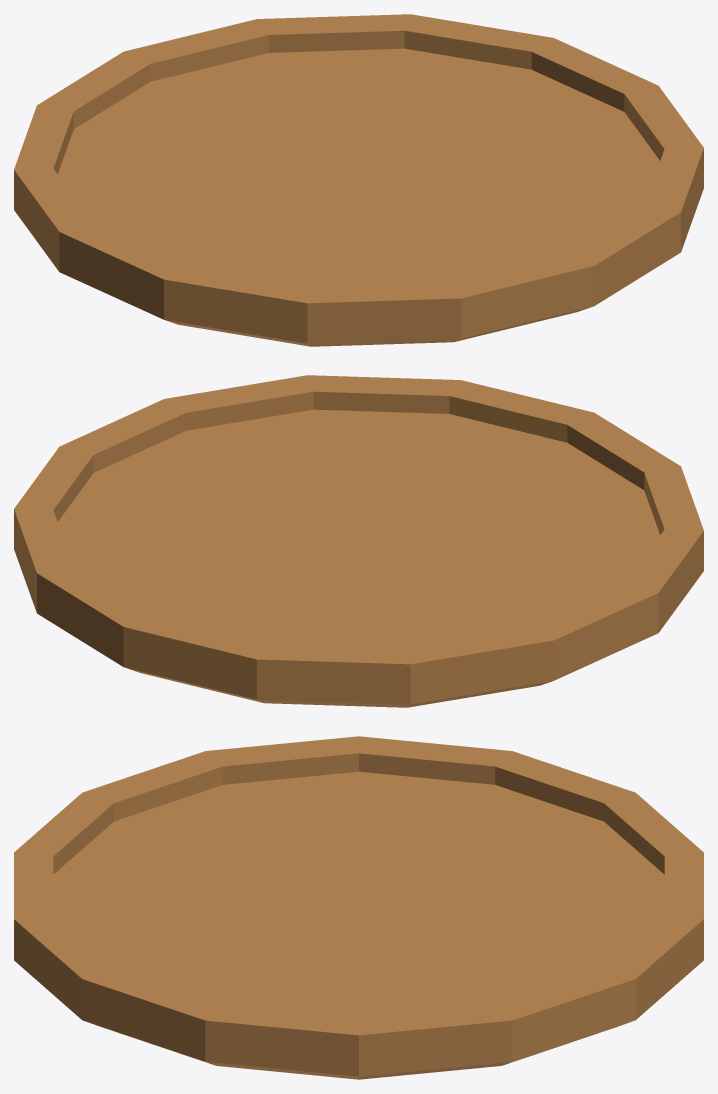
Rendered from cake_base.glb.
3 renders of one model, top to bottom at view 1: azimuth 30°, elevation 25°; view 2: azimuth 150°, elevation 25°; view 3: azimuth 270°, elevation 25°, orthographic. The views are drawn at different scales.
Visible parts, largest first — view 1: cake_base; view 2: cake_base; view 3: cake_base.
Boxes of the visible parts, box(x1,y1,x2,y2) form: cake_base: box(14, 14, 703, 346); cake_base: box(14, 375, 703, 707); cake_base: box(14, 736, 703, 1079).
Bounding box in the file's own units: 0.28 × 0.024 × 0.273.
